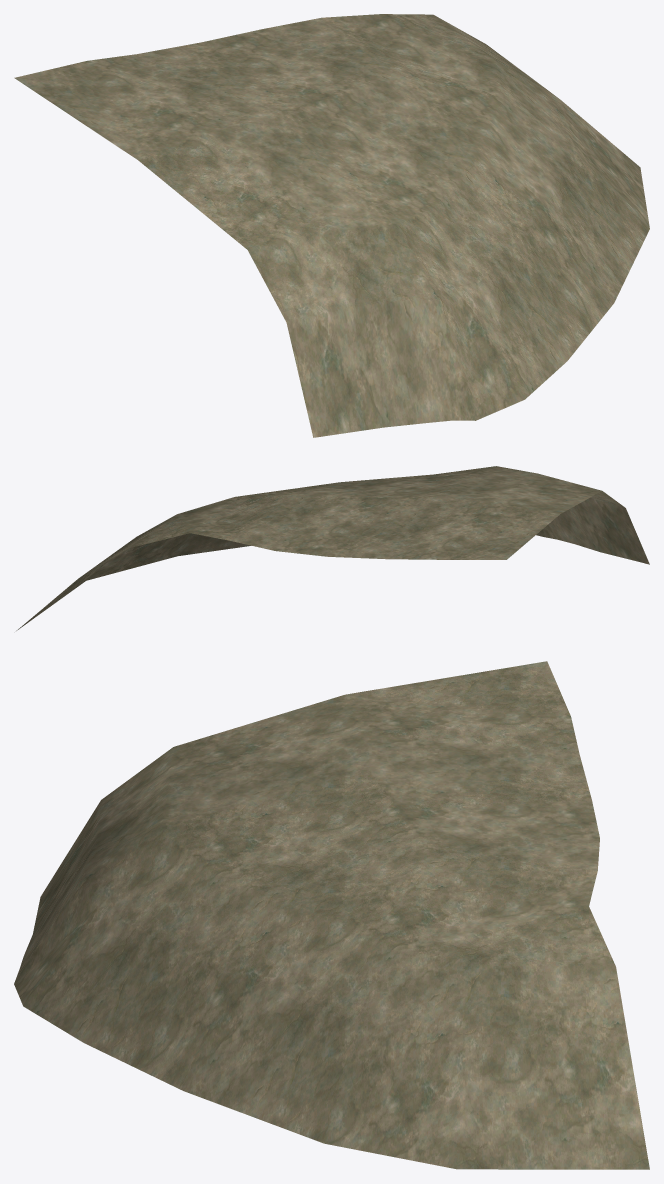
Rendered from OVERHILL_A_01_OBJECT159.fbx.
3 renders of one model, top to bottom at view 1: azimuth 30°, elevation 25°; view 2: azimuth 150°, elevation 25°; view 3: azimuth 270°, elevation 25°, orthographic. The views are drawn at different scales.
Visible parts, largest first — view 1: OVERHILL_A_01_OBJECT159; view 2: OVERHILL_A_01_OBJECT159; view 3: OVERHILL_A_01_OBJECT159.
Part boxes in pixels (<box>): OVERHILL_A_01_OBJECT159: <box>14,14,649,437</box>; OVERHILL_A_01_OBJECT159: <box>16,466,649,630</box>; OVERHILL_A_01_OBJECT159: <box>14,661,649,1169</box>.
Size of the model in its own units: 281449 by 95312 by 253210.
2 materials, 2 textured.
